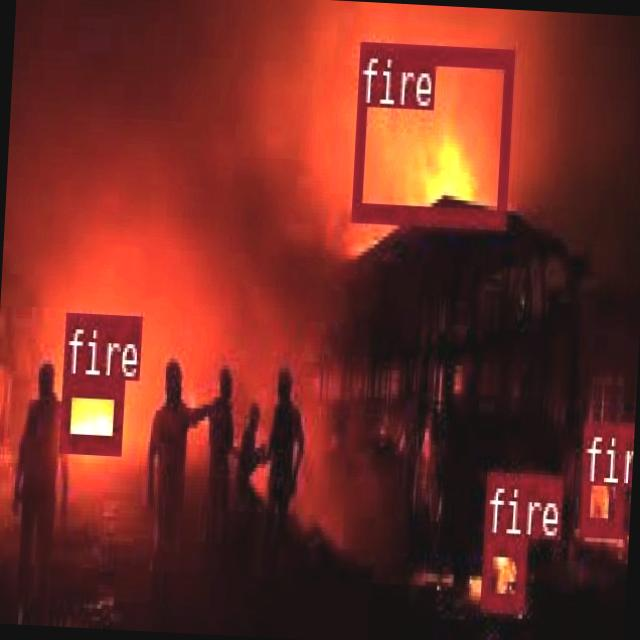fire: (350, 42, 512, 224), (578, 420, 627, 534), (59, 374, 122, 452), (480, 532, 524, 608)
